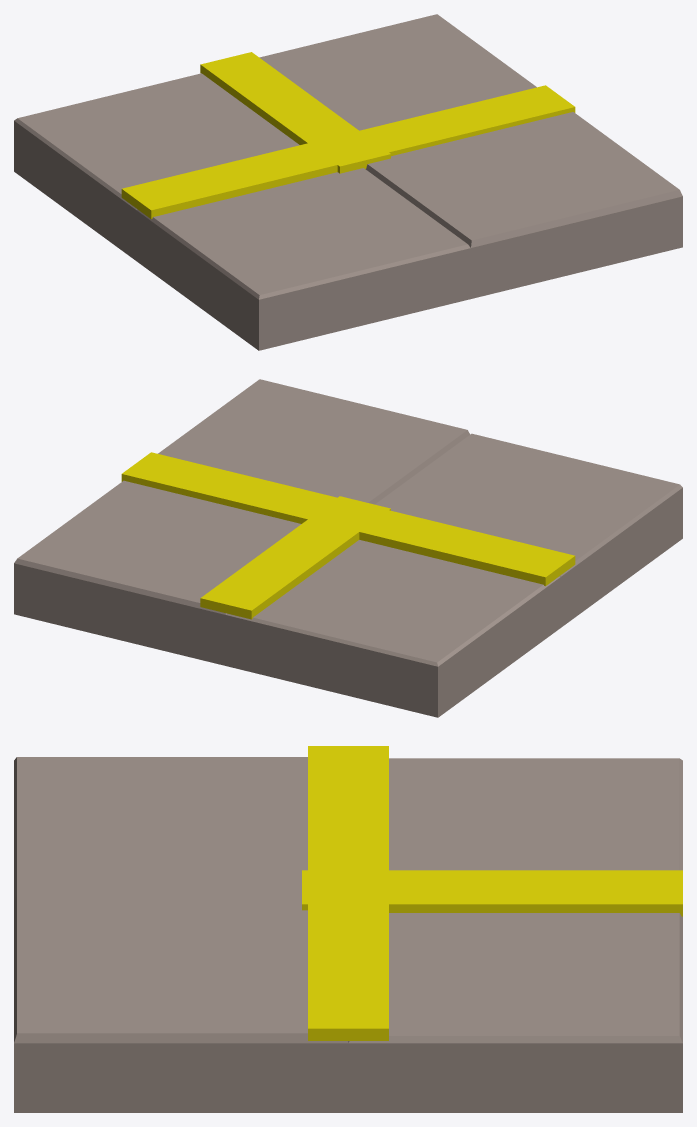
3 renders of one model, top to bottom at view 1: azimuth 30°, elevation 25°; view 2: azimuth 150°, elevation 25°; view 3: azimuth 270°, elevation 25°, orthographic. The views are drawn at different scales.
Parts seen in each view (by area): view 1: Plane.009, Plane.012, Plane.010; view 2: Plane.009, Plane.012, Plane.010; view 3: Plane.009, Plane.012, Plane.010.
Part boxes in pixels (bbox=[...]): Plane.009: bbox=[14, 14, 682, 350]; Plane.012: bbox=[121, 85, 575, 219]; Plane.010: bbox=[200, 52, 390, 173]; Plane.009: bbox=[14, 379, 682, 717]; Plane.012: bbox=[121, 452, 575, 586]; Plane.010: bbox=[200, 496, 390, 619]; Plane.009: bbox=[14, 757, 682, 1112]; Plane.012: bbox=[308, 746, 388, 1040]; Plane.010: bbox=[302, 870, 682, 916].
Size of the model in its own units: 200 by 27.79 by 200.
